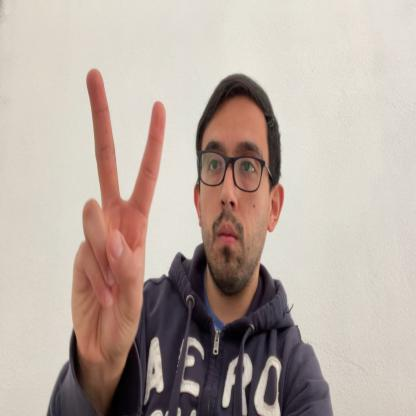V: (71, 67, 167, 386)
